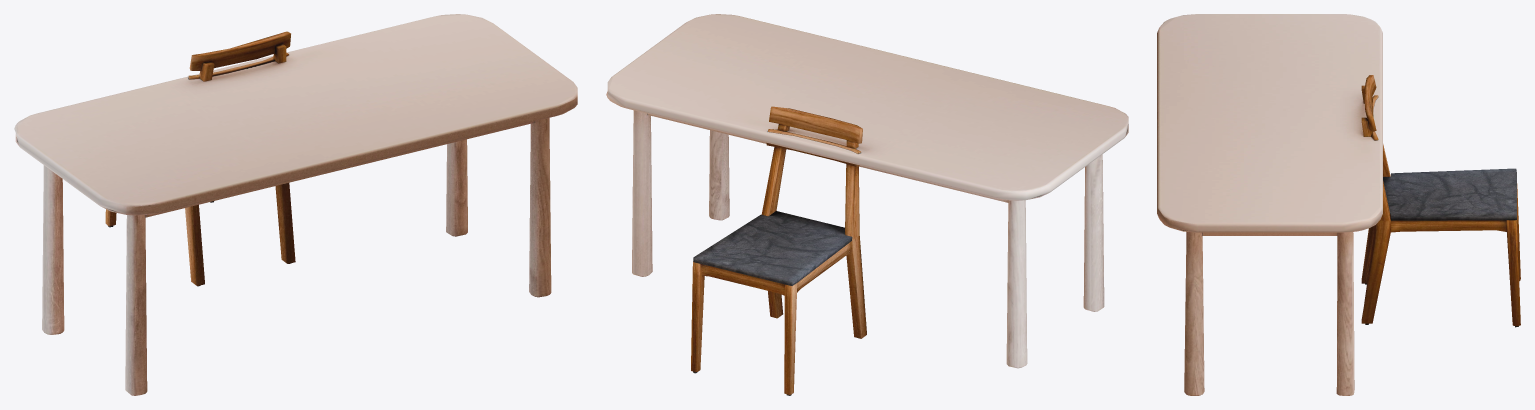
The model's file is table.glb.
3 renders of one model, left to right at view 1: azimuth 30°, elevation 25°; view 2: azimuth 150°, elevation 25°; view 3: azimuth 270°, elevation 25°, orthographic. The views are drawn at different scales.
Size of the model in its own units: 31.5 by 14.54 by 22.96.
1 material, 1 textured.
